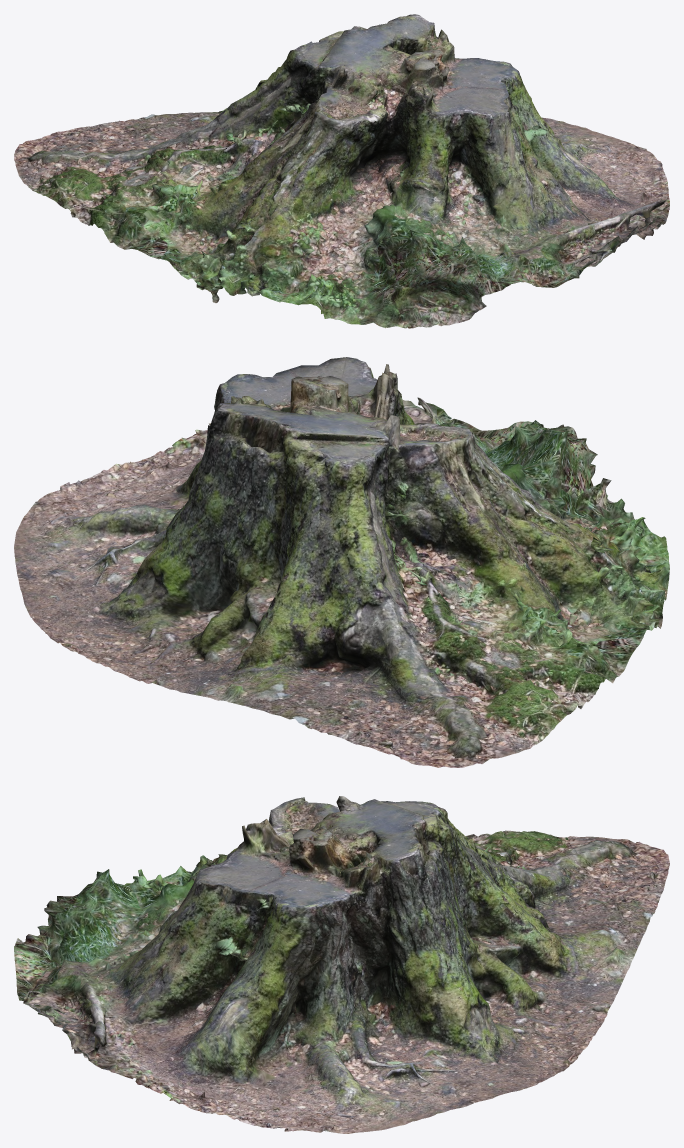
Rendered from stump_boubin.glb.
The picture shows the model from 3 angles, top to bottom: view 1: azimuth 30°, elevation 25°; view 2: azimuth 150°, elevation 25°; view 3: azimuth 270°, elevation 25°; orthographic projection. The views are drawn at different scales.
Visible parts, largest first — view 1: stump_boubin; view 2: stump_boubin; view 3: stump_boubin.
Boxes of the visible parts, x1=… form: stump_boubin: x1=14, y1=14, x2=669, y2=328; stump_boubin: x1=14, y1=357, x2=669, y2=767; stump_boubin: x1=14, y1=796, x2=669, y2=1133.
Bounding box in the file's own units: 7.79 × 2.4 × 7.56.
Materials: 1 (1 with a texture image).
